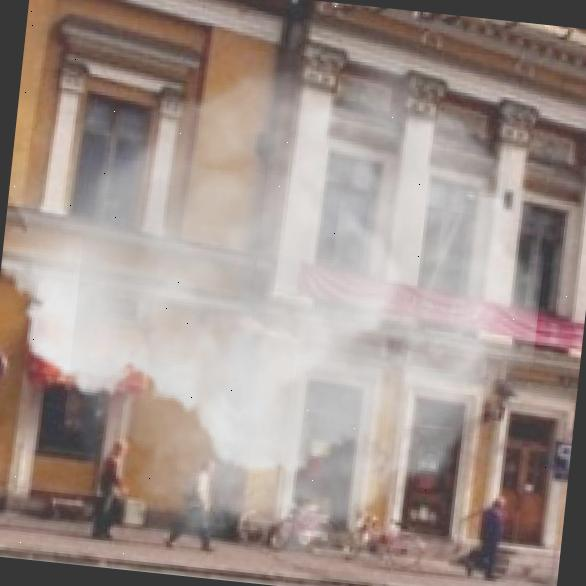smoke: (0, 7, 565, 586)
